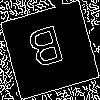B: (25, 24, 69, 78)
